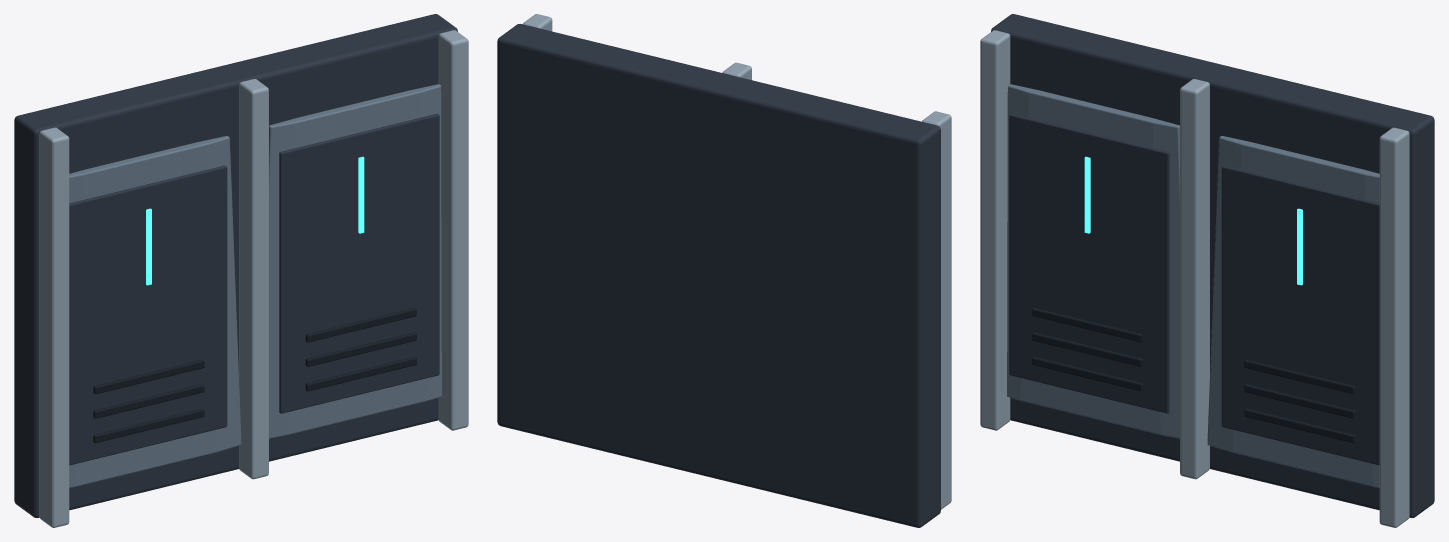
File: WallPanel.fbx
3 views of the same model, side by side, from view 1: azimuth 30°, elevation 25°; view 2: azimuth 150°, elevation 25°; view 3: azimuth 330°, elevation 25° (orthographic).
Parts seen in each view (by area): view 1: WallStructure, InsetPanel.001, InsetPanel, WallPanel.001, WallColumn, WallColumn.001, WallPanel, WallColumn.002, WallVent.002, WallVent, WallVent.003, WallVent.004 (+3 smaller); view 2: WallStructure, WallColumn; view 3: WallStructure, InsetPanel, InsetPanel.001, WallPanel, WallColumn.002, WallColumn.001, WallPanel.001, WallColumn, WallVent.005, WallVent, WallVent.001, WallVent.003 (+3 smaller).
Part boxes in pixels (x1=…): WallStructure: x1=14, y1=14, x2=457, y2=517; InsetPanel.001: x1=279, y1=113, x2=439, y2=413; InsetPanel: x1=69, y1=165, x2=227, y2=465; WallPanel.001: x1=269, y1=84, x2=441, y2=438; WallColumn: x1=39, y1=127, x2=69, y2=527; WallColumn.001: x1=239, y1=79, x2=268, y2=479; WallPanel: x1=69, y1=136, x2=241, y2=487; WallColumn.002: x1=438, y1=30, x2=468, y2=430; WallVent.002: x1=93, y1=359, x2=204, y2=394; WallVent: x1=93, y1=408, x2=204, y2=443; WallVent.003: x1=305, y1=356, x2=416, y2=391; WallVent.004: x1=305, y1=332, x2=416, y2=366; WallStructure: x1=497, y1=24, x2=940, y2=527; WallColumn: x1=922, y1=111, x2=951, y2=509; WallStructure: x1=991, y1=14, x2=1434, y2=517; InsetPanel: x1=1009, y1=113, x2=1169, y2=413; InsetPanel.001: x1=1221, y1=165, x2=1379, y2=465; WallPanel: x1=1007, y1=84, x2=1179, y2=438; WallColumn.002: x1=1379, y1=127, x2=1409, y2=527; WallColumn.001: x1=1180, y1=79, x2=1209, y2=479; WallPanel.001: x1=1207, y1=136, x2=1379, y2=487; WallColumn: x1=980, y1=30, x2=1010, y2=430; WallVent.005: x1=1244, y1=359, x2=1355, y2=394; WallVent: x1=1032, y1=356, x2=1143, y2=391; WallVent.001: x1=1032, y1=332, x2=1143, y2=366; WallVent.003: x1=1244, y1=408, x2=1355, y2=443.
Size of the model in its own units: 4 by 3.5 by 0.585.
